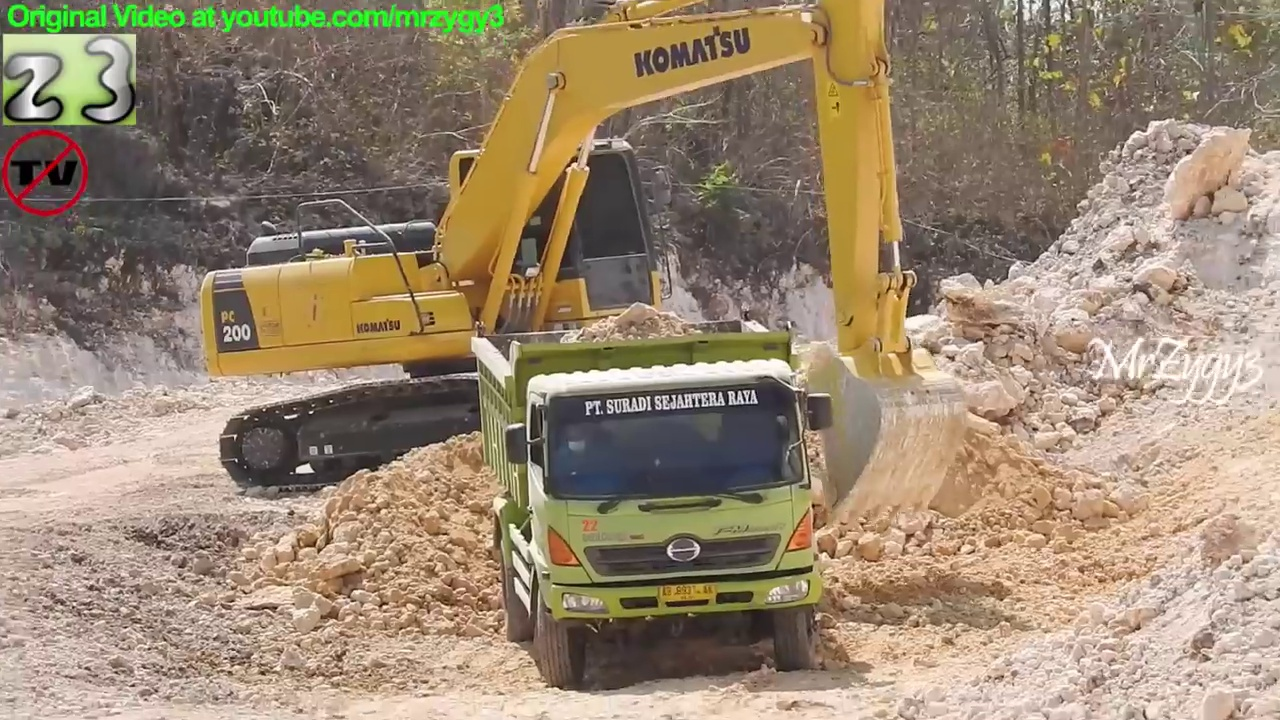excavator: (191, 1, 974, 541)
truck: (467, 300, 838, 695)
